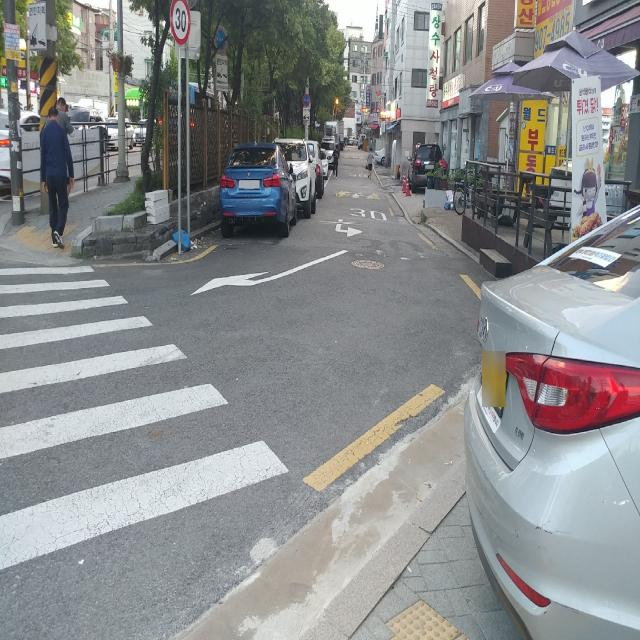횡단보도: (0, 261, 291, 573)
